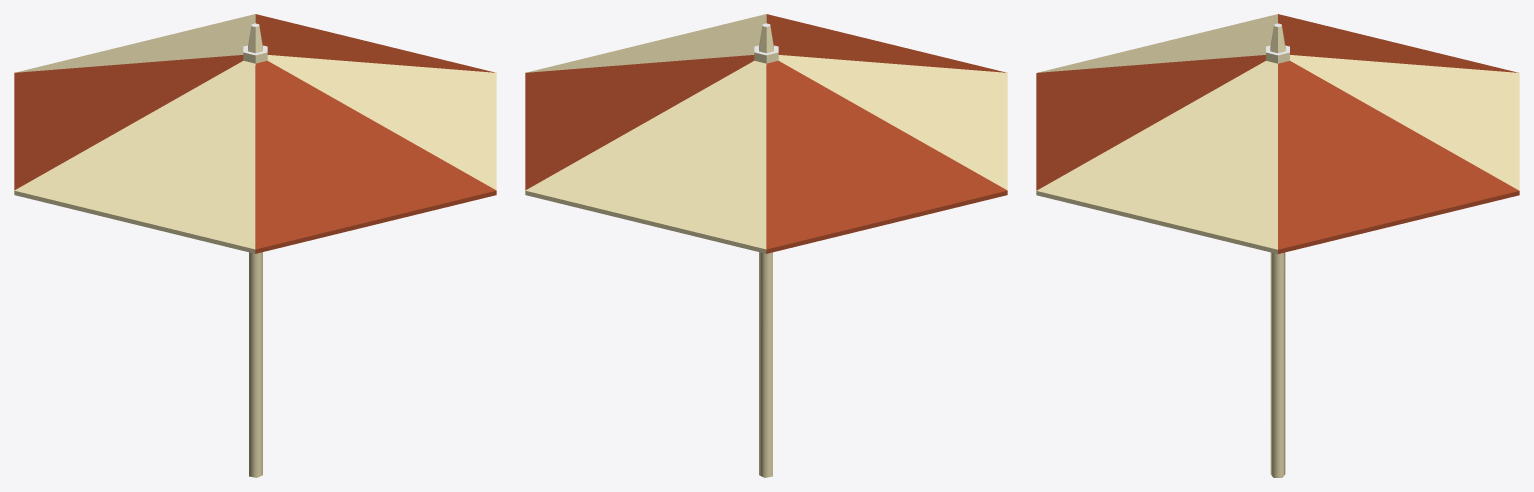
Rendered from SM_Umbrella_001.fbx.
3 views of the same model, side by side, from view 1: azimuth 30°, elevation 25°; view 2: azimuth 150°, elevation 25°; view 3: azimuth 270°, elevation 25° (orthographic).
Visible parts, largest first — view 1: Umbrella_001; view 2: Umbrella_001; view 3: Umbrella_001.
Boxes of the visible parts, x1=… form: Umbrella_001: x1=14, y1=14, x2=496, y2=477; Umbrella_001: x1=525, y1=14, x2=1007, y2=477; Umbrella_001: x1=1036, y1=14, x2=1519, y2=477.
Bounding box in the file's own units: 311 × 277 × 269.
1 material, 1 textured.
